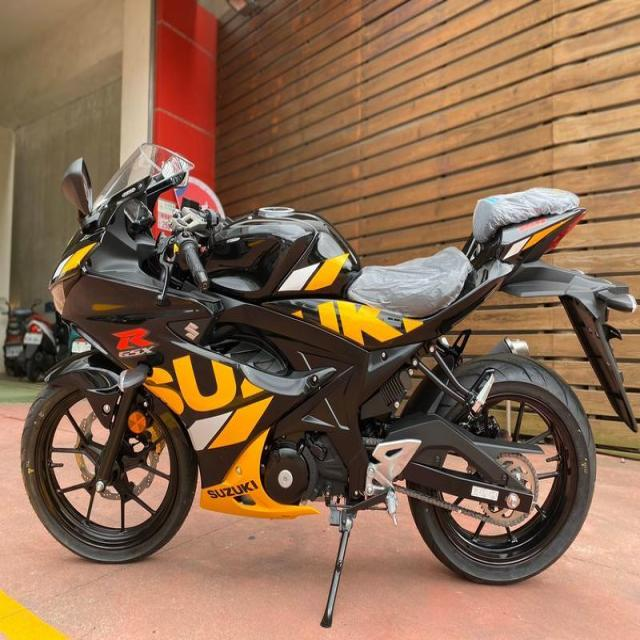Bike: (21, 145, 636, 627)
